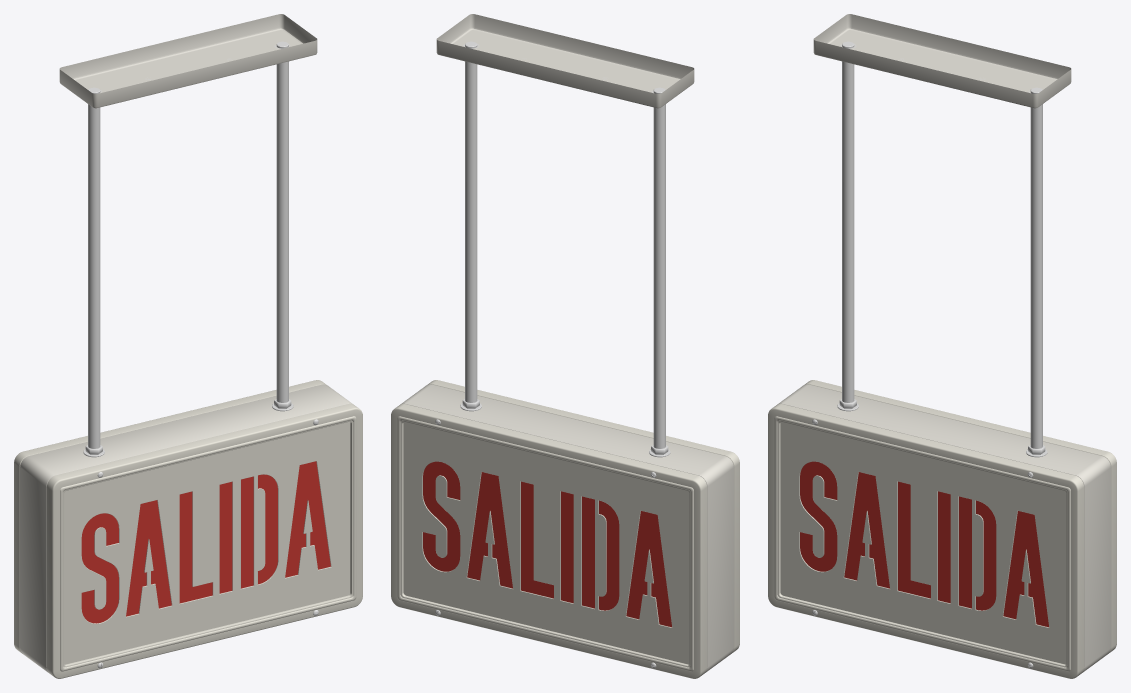
The model's file is Kit_ExitSign_Hanging.fbx.
3 renders of one model, left to right at view 1: azimuth 30°, elevation 25°; view 2: azimuth 150°, elevation 25°; view 3: azimuth 330°, elevation 25°, orthographic.
Visible parts, largest first — view 1: Kit_ExitSign_Hanging_LOD0; view 2: Kit_ExitSign_Hanging_LOD0; view 3: Kit_ExitSign_Hanging_LOD0.
Part boxes in pixels (left/top/right/bottom): Kit_ExitSign_Hanging_LOD0: left=14, top=14, right=362, bottom=678; Kit_ExitSign_Hanging_LOD0: left=391, top=14, right=739, bottom=678; Kit_ExitSign_Hanging_LOD0: left=768, top=14, right=1116, bottom=678.
Size of what is drawn, in the model's own units: 0.346 by 0.612 by 0.0789.
